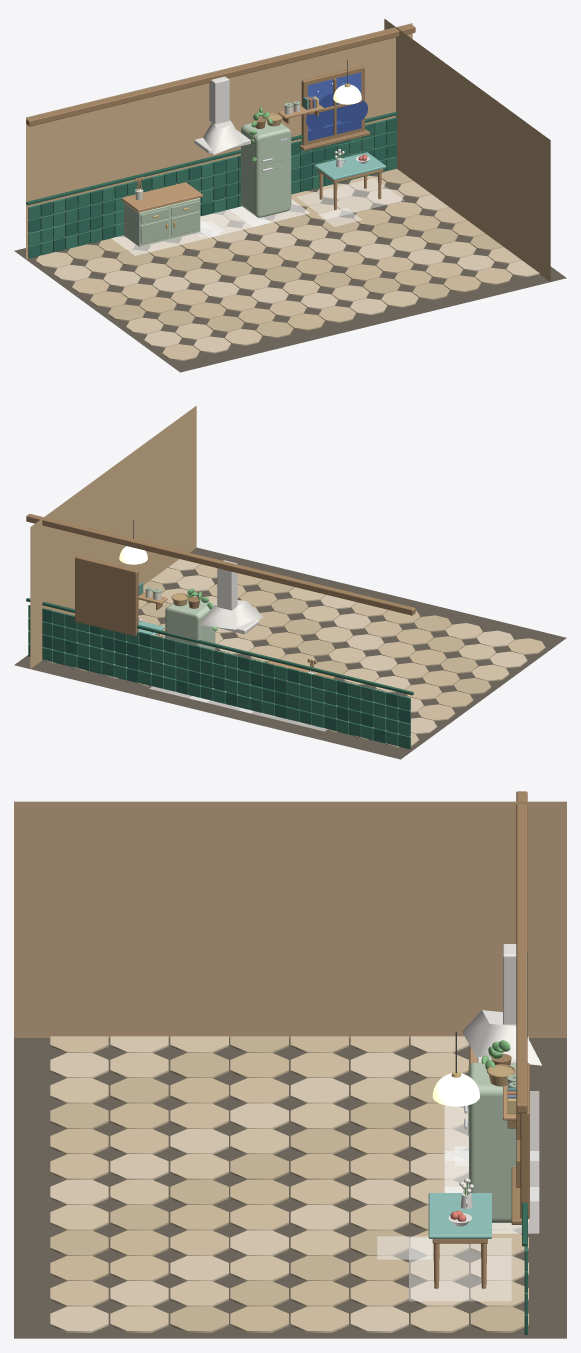
File: earth-kitchen-room.glb
The picture shows the model from 3 angles, top to bottom: view 1: azimuth 30°, elevation 25°; view 2: azimuth 150°, elevation 25°; view 3: azimuth 270°, elevation 25°; orthographic projection. The views are drawn at different scales.
Visible parts, largest first — view 1: floor, wallBack, wallRight, object 5, tiles, fridge, counter, object 6, object 46, hood, table, object 43 (+9 smaller); view 2: floor, tiles, wallRight, object 5, windowFrame, object 6, hood, fridge, object 8; view 3: wallLeft, floor, object 5, object 46, fridge, object 6, table, hood, object 45, object 43, object 47, lampShade (+3 smaller).
Part boxes in pixels (x1=…): floor: x1=36, y1=169, x2=539, y2=360; wallBack: x1=26, y1=23, x2=412, y2=259; wallRight: x1=384, y1=19, x2=550, y2=281; object 5: x1=14, y1=173, x2=566, y2=372; tiles: x1=28, y1=117, x2=396, y2=258; fridge: x1=241, y1=113, x2=291, y2=217; counter: x1=121, y1=176, x2=202, y2=247; object 6: x1=26, y1=25, x2=415, y2=126; object 46: x1=297, y1=178, x2=404, y2=219; hood: x1=194, y1=76, x2=250, y2=154; table: x1=314, y1=152, x2=386, y2=210; object 43: x1=200, y1=206, x2=269, y2=237; floor: x1=42, y1=559, x2=545, y2=747; tiles: x1=28, y1=605, x2=410, y2=749; wallRight: x1=30, y1=406, x2=196, y2=668; object 5: x1=14, y1=547, x2=566, y2=759; windowFrame: x1=75, y1=555, x2=138, y2=636; object 6: x1=26, y1=514, x2=415, y2=615; hood: x1=198, y1=560, x2=263, y2=634; fridge: x1=165, y1=593, x2=215, y2=685; object 8: x1=26, y1=598, x2=413, y2=695; wallLeft: x1=14, y1=801, x2=566, y2=1037; floor: x1=50, y1=1036, x2=528, y2=1332; object 5: x1=14, y1=1038, x2=566, y2=1338; object 46: x1=409, y1=1238, x2=511, y2=1300; fridge: x1=464, y1=1062, x2=516, y2=1222; object 6: x1=516, y1=791, x2=527, y2=1113; table: x1=428, y1=1193, x2=491, y2=1288; hood: x1=462, y1=944, x2=541, y2=1065; object 45: x1=444, y1=1091, x2=539, y2=1160; object 43: x1=444, y1=1151, x2=539, y2=1201; object 47: x1=377, y1=1236, x2=432, y2=1259; lampShade: x1=432, y1=1073, x2=479, y2=1106.
Size of the model in its own units: 9.4 by 3.33 by 7.
